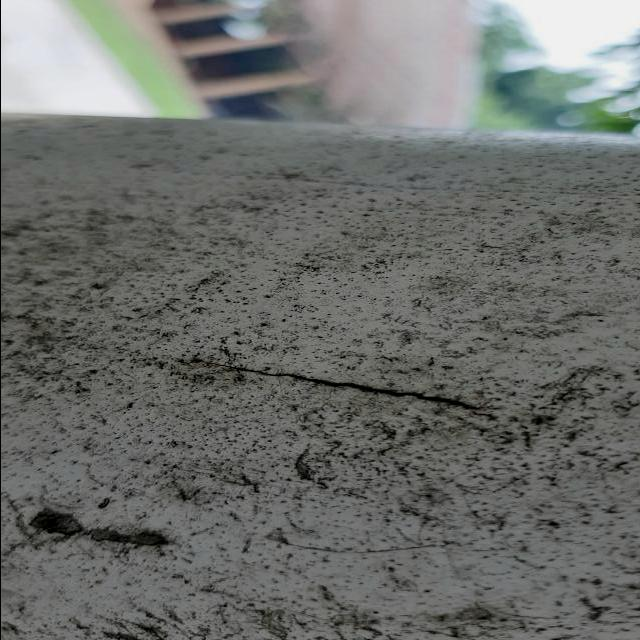defect: (184, 356, 510, 421)
